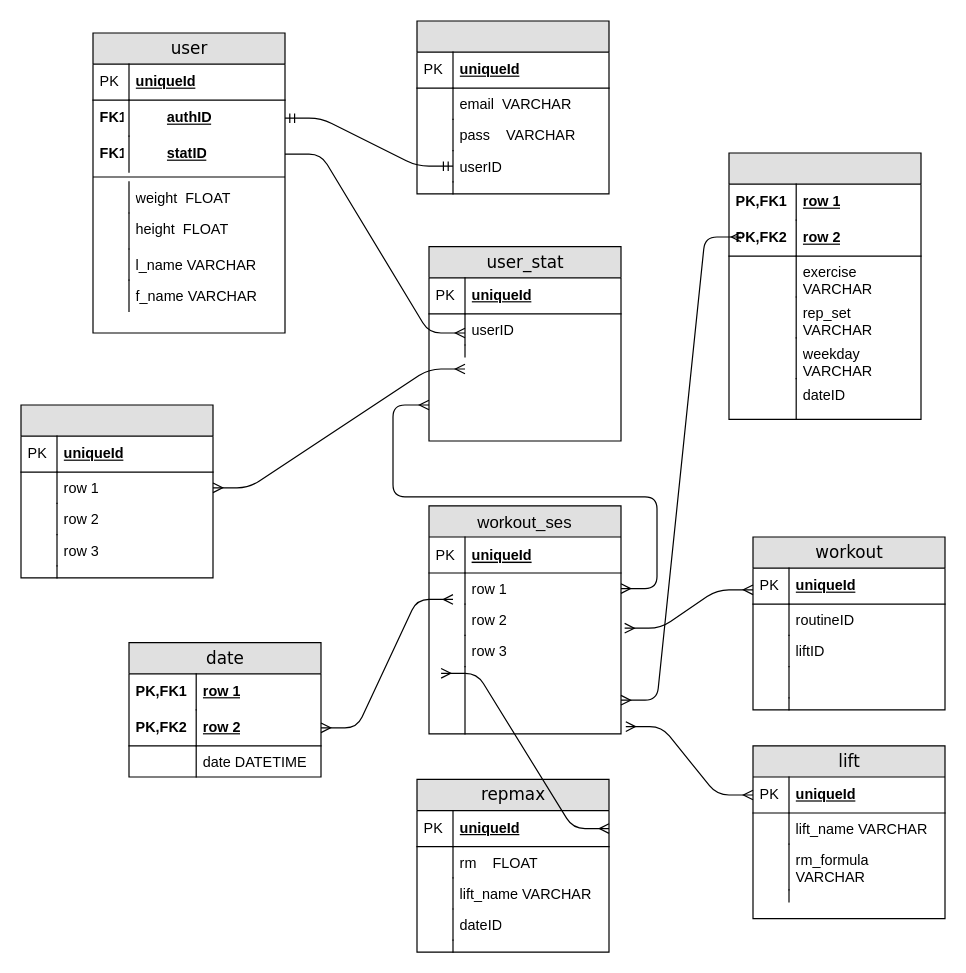
Some shapes in this 966 by 973 pixel diagram are drawn without their labels. The box of each missing label's shape, as (x1, y1, x2, y2) in pixels:
goal: (20, 404, 213, 578)
routine: (728, 152, 921, 419)
user_auth: (416, 20, 609, 194)
